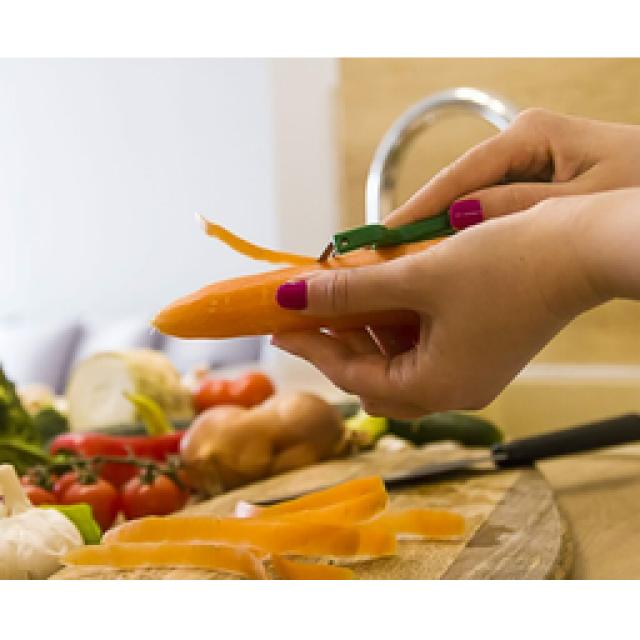food_waste: (0, 350, 462, 575), (152, 220, 325, 335)
